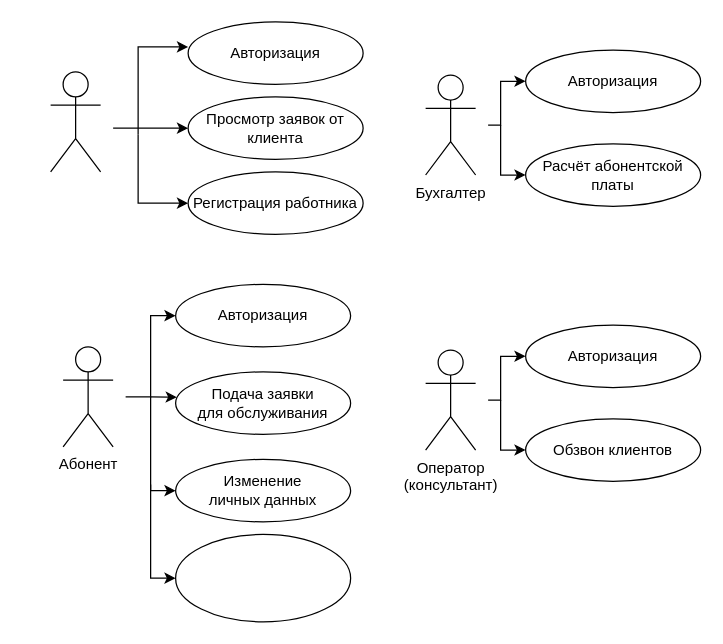
Image size: 723x644. Some labels were removed from this diagram. Here are the shapes that lost their labels. From the top down, the box of each, then its label:
(49, 71, 101, 172): Администратор
(174, 533, 351, 622): Просмотр иформации о звонках
